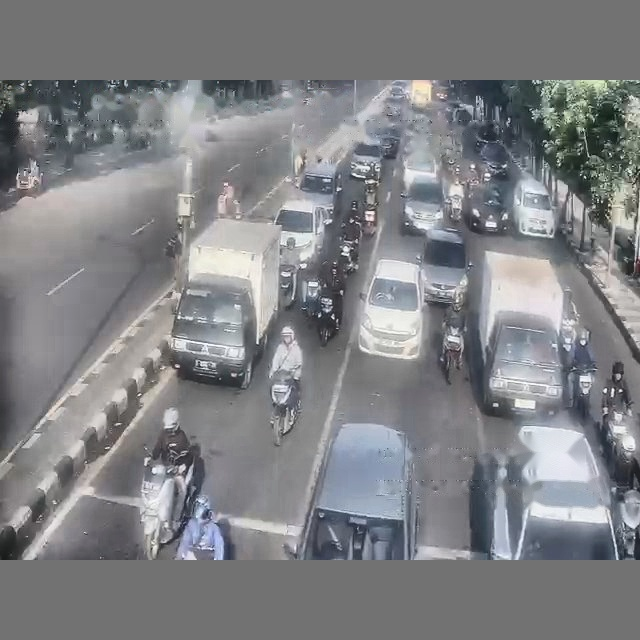Mobil: (469, 424, 619, 559), (284, 423, 418, 559), (358, 259, 423, 359), (418, 228, 471, 304), (400, 176, 443, 234), (299, 162, 342, 217), (462, 184, 509, 233), (403, 138, 439, 189), (350, 138, 382, 179), (479, 142, 509, 179), (373, 124, 401, 158), (475, 122, 499, 151), (453, 107, 472, 126), (384, 103, 402, 122), (387, 86, 405, 102)
Motor: (140, 458, 179, 559), (599, 405, 636, 490), (271, 371, 299, 445), (569, 367, 595, 423), (620, 490, 639, 559), (442, 326, 463, 383), (316, 292, 338, 346), (361, 178, 377, 236), (280, 264, 299, 308), (16, 168, 42, 198), (560, 318, 576, 366), (303, 275, 320, 319), (339, 238, 358, 274), (446, 194, 461, 222)
Truk: (170, 219, 280, 388), (478, 251, 564, 414), (410, 80, 432, 111)
